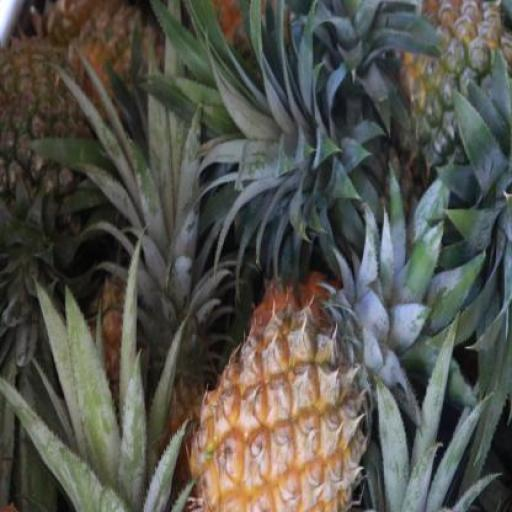------------------------------: (399, 0, 512, 177)
Pineapple - v8 v1: (191, 302, 370, 510)
